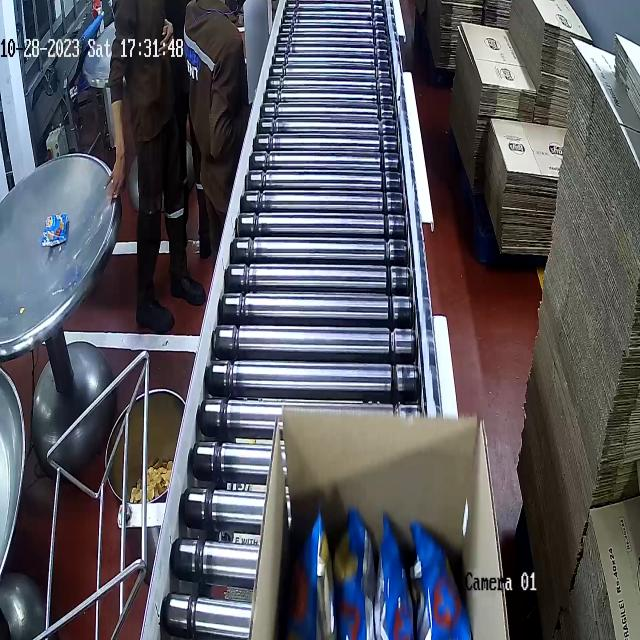PAPRIKA: (293, 491, 474, 640)
